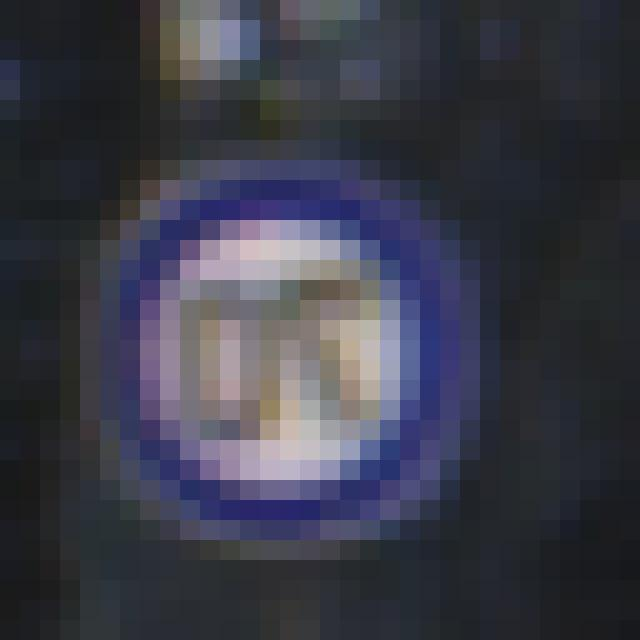SPEED LIMIT 70: (78, 163, 484, 559)
